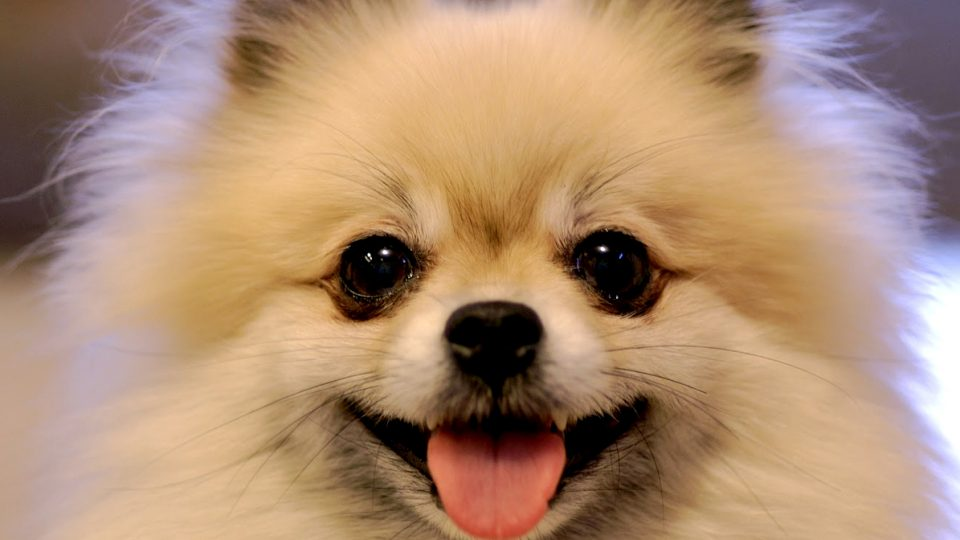pomeranian: (90, 7, 937, 540)
